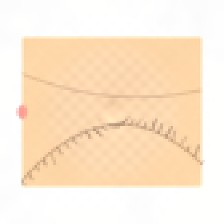hemorrhage_spot: (60, 81, 162, 163)
